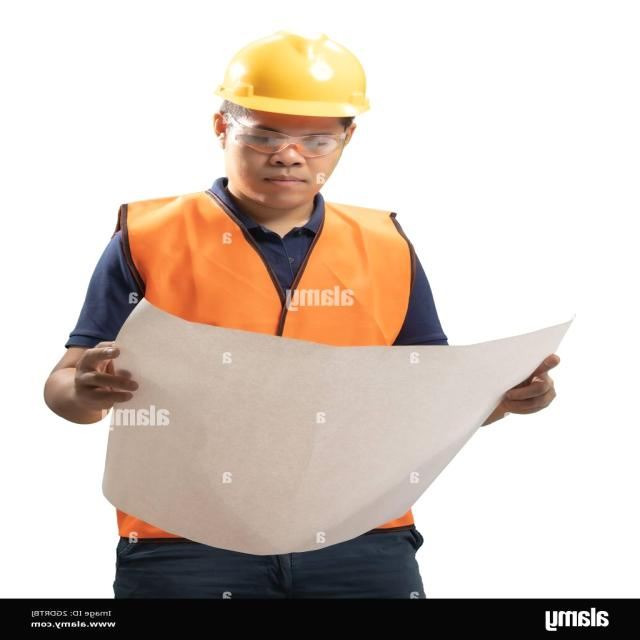goggles: (214, 116, 348, 154)
helmet: (212, 24, 366, 134)
vest: (104, 193, 438, 549)
